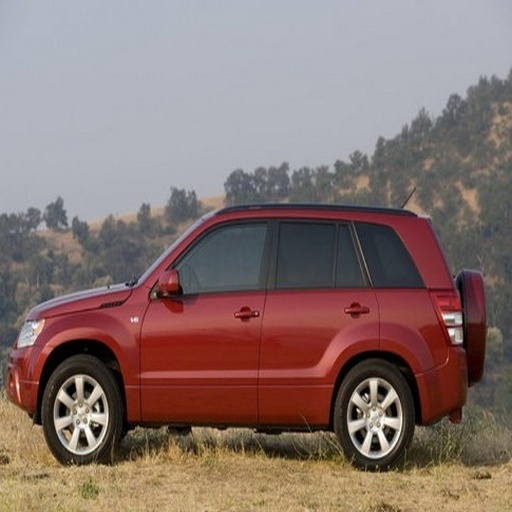back_left_door: (259, 215, 377, 418)
front_left_door: (141, 216, 276, 412)
